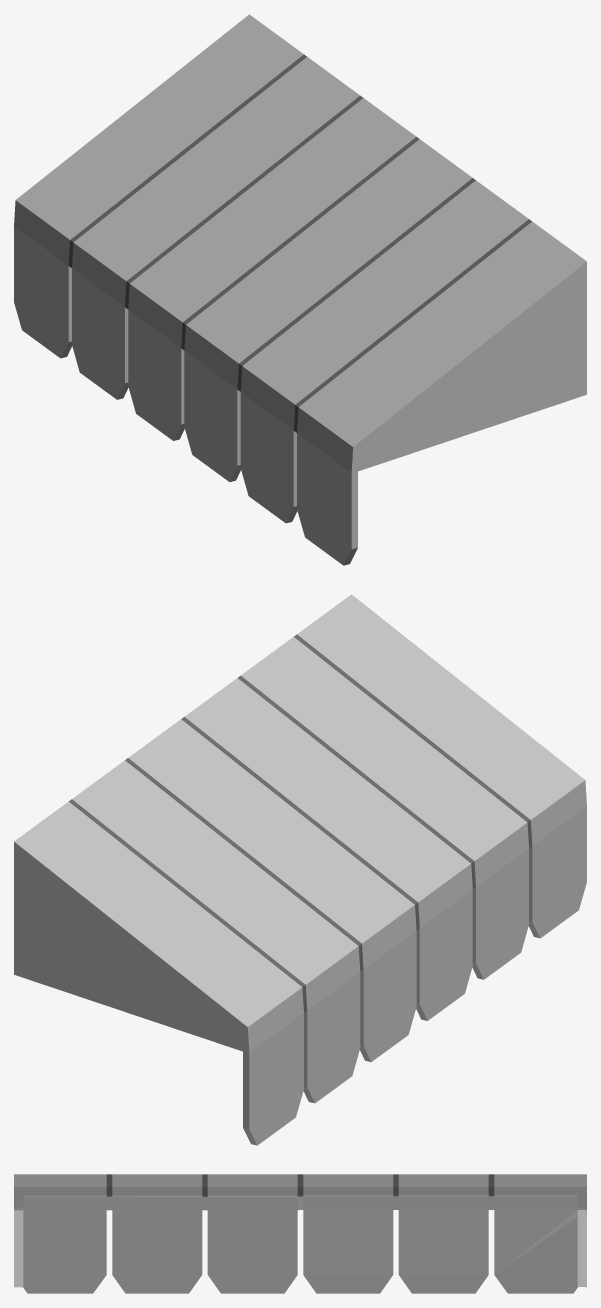
File: awning_B.FBX
The picture shows the model from 3 angles, top to bottom: view 1: azimuth 30°, elevation 25°; view 2: azimuth 150°, elevation 25°; view 3: azimuth 270°, elevation 25°; orthographic projection. The views are drawn at different scales.
Visible parts, largest first — view 1: awning_B; view 2: awning_B; view 3: awning_B.
Boxes of the visible parts, box(x1,y1,x2,y2) form: awning_B: box(14, 14, 586, 565); awning_B: box(14, 594, 586, 1145); awning_B: box(14, 1174, 586, 1293).
Bounding box in the file's own units: 71.76 × 73.61 × 178.
